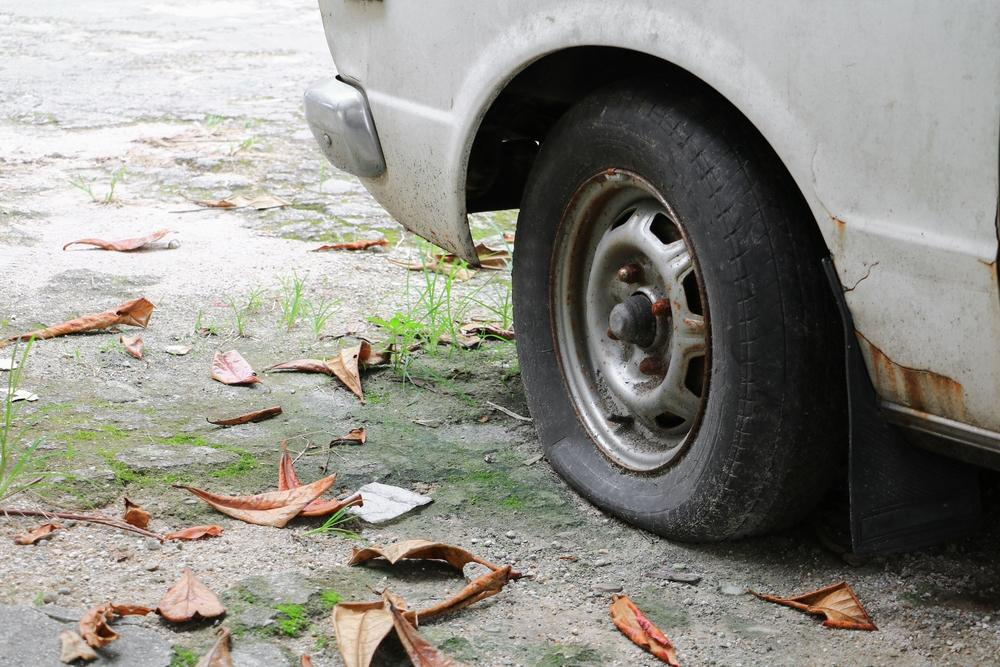tire flat: (510, 82, 824, 545)
